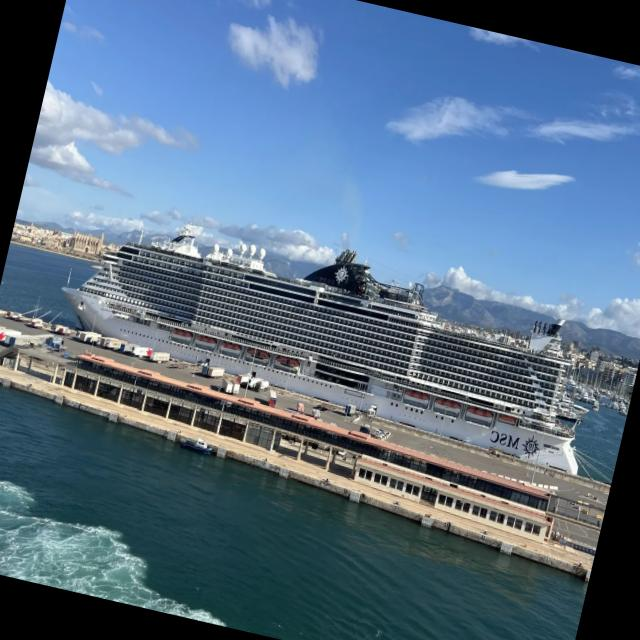Cruise: (65, 224, 577, 474)
